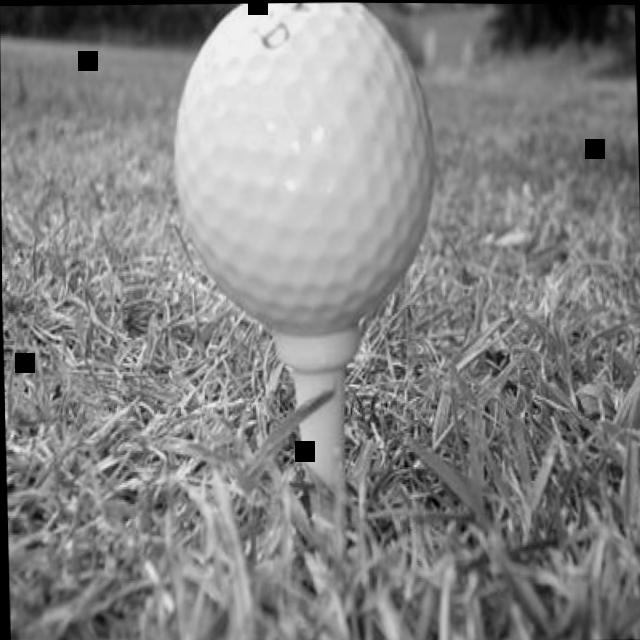golf ball: (159, 1, 444, 343)
